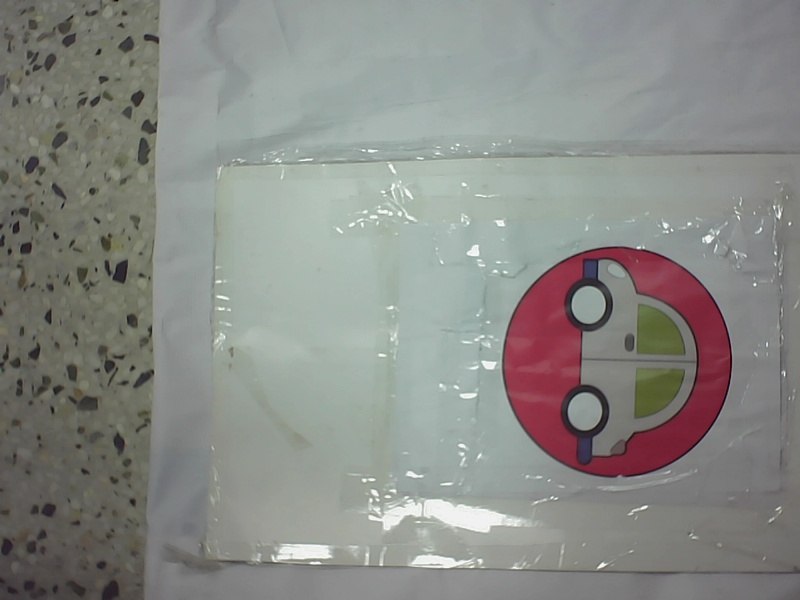areaC: (491, 236, 739, 480)
